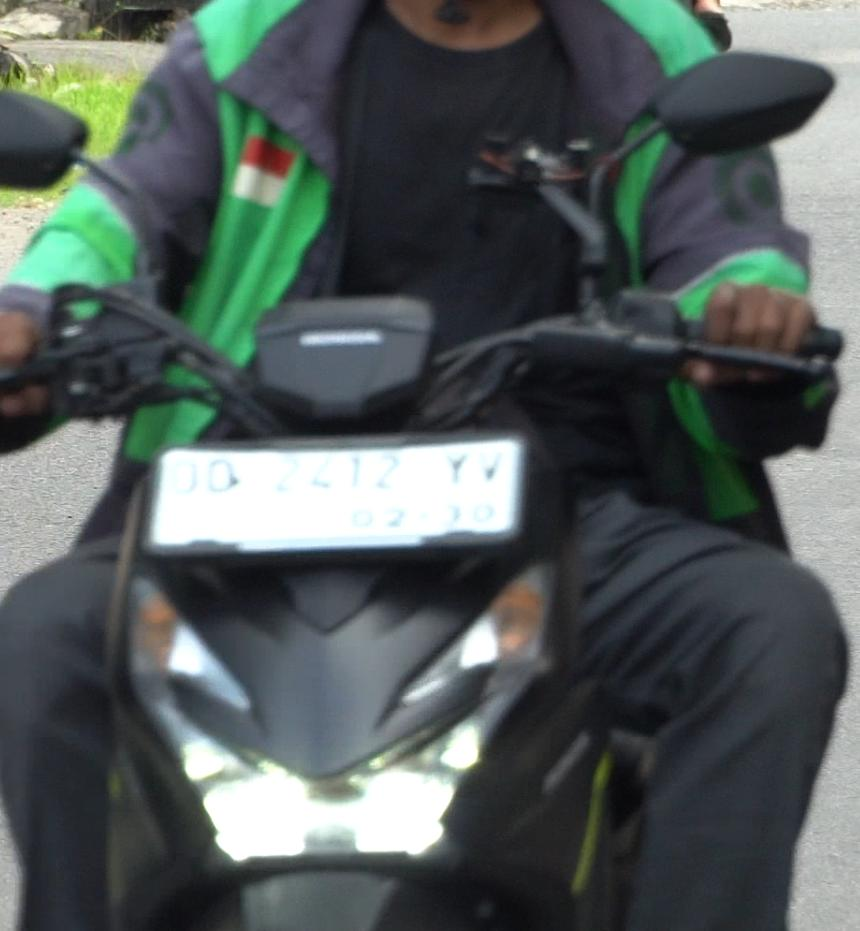number-plate: (161, 433, 525, 547)
